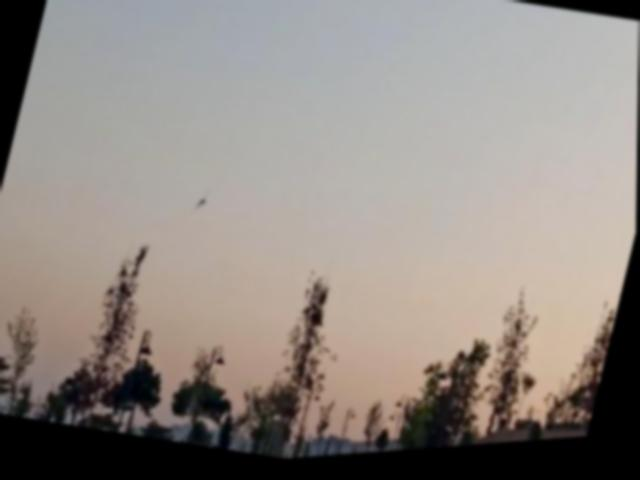uav: (182, 179, 220, 224)
